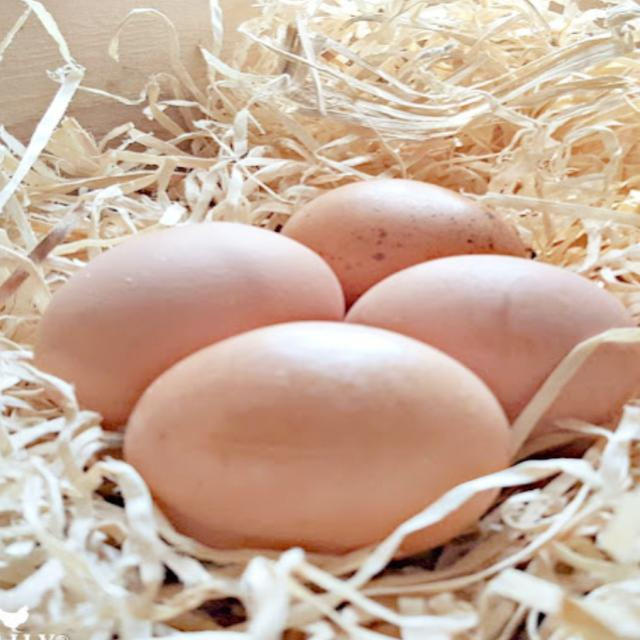Brown Egg: (70, 326, 520, 548), (23, 228, 366, 394), (345, 257, 640, 432)
